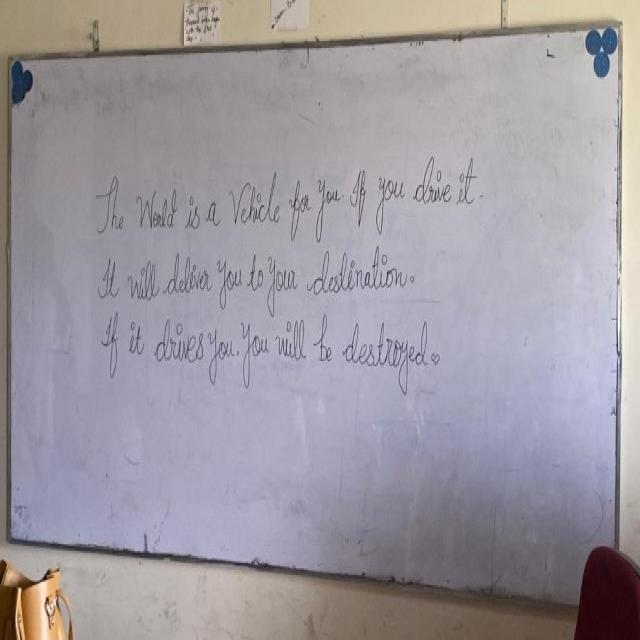White-board: (8, 22, 618, 609)
